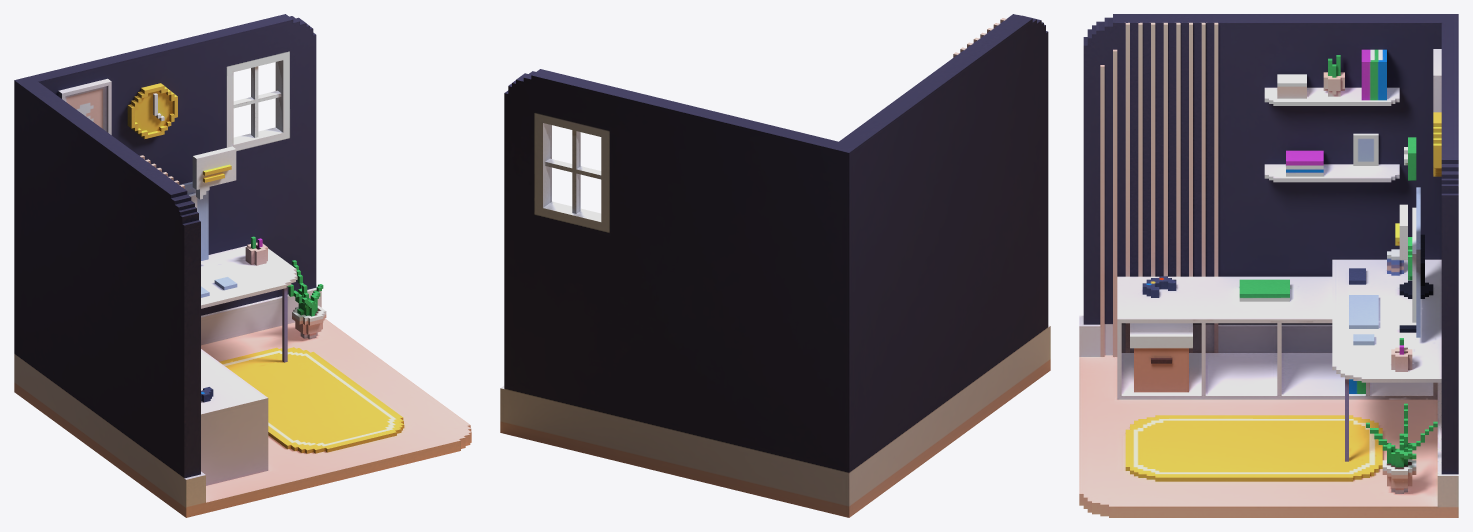
The picture shows the model from 3 angles, left to right: view 1: azimuth 30°, elevation 25°; view 2: azimuth 150°, elevation 25°; view 3: azimuth 270°, elevation 25°; orthographic projection. The views are drawn at different scales.
Visible parts, largest first — view 1: box2.001; view 2: box2.001; view 3: box2.001.
Part boxes in pixels (x1=…): box2.001: x1=14, y1=14, x2=471, y2=517; box2.001: x1=500, y1=14, x2=1050, y2=517; box2.001: x1=1079, y1=14, x2=1458, y2=517.
Bounding box in the file's own units: 9 × 9 × 9.
Materials: 1 (1 with a texture image).
